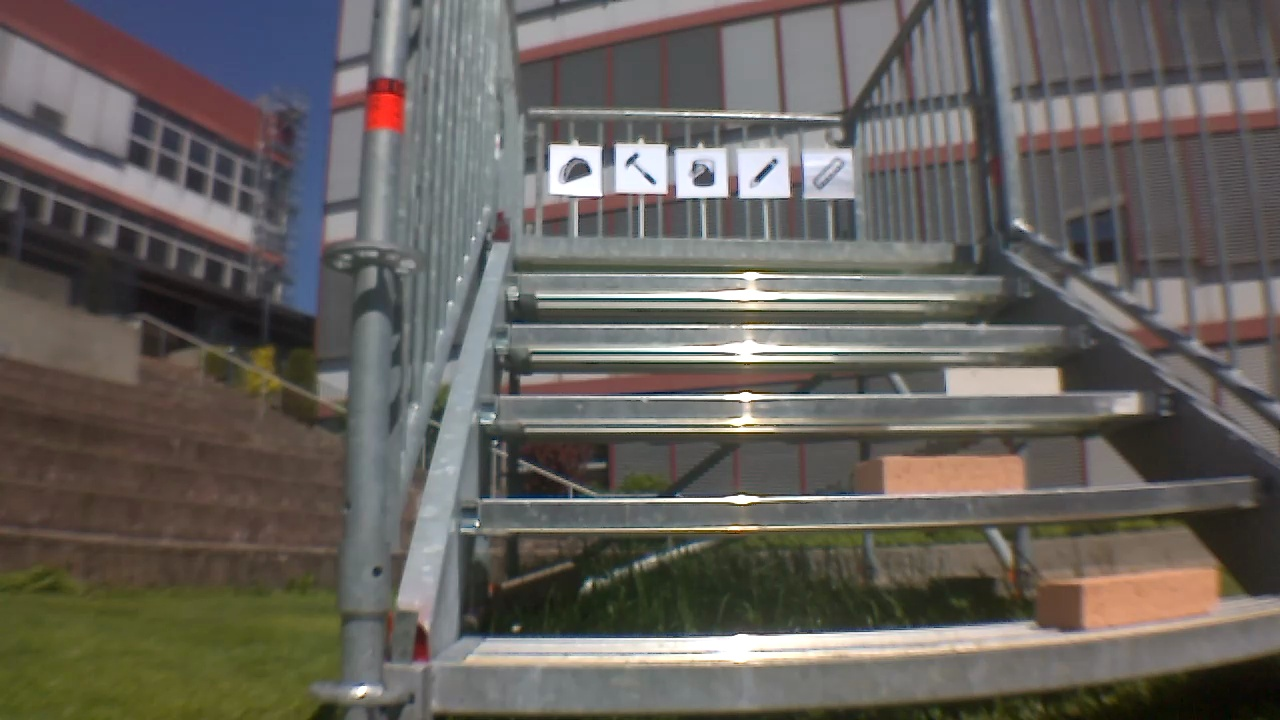brick: (1040, 559, 1218, 629), (850, 454, 1027, 494), (927, 364, 1061, 396)
edge: (434, 610, 1280, 712), (453, 473, 1279, 534), (477, 388, 1179, 425), (491, 325, 1097, 353), (511, 239, 985, 263), (498, 274, 1012, 296)
stairs: (343, 0, 1280, 705)
steps: (391, 239, 1280, 706)
